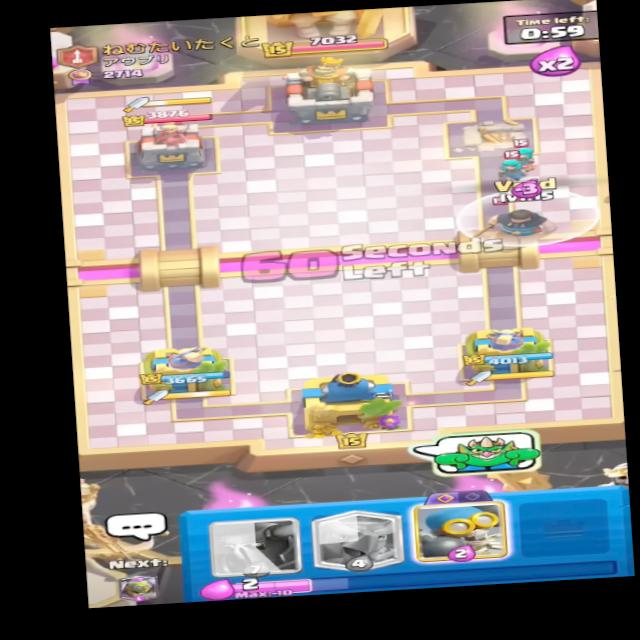rascal-boy: (484, 199, 565, 242)
rascal-girl: (510, 131, 543, 165), (497, 149, 531, 179)
